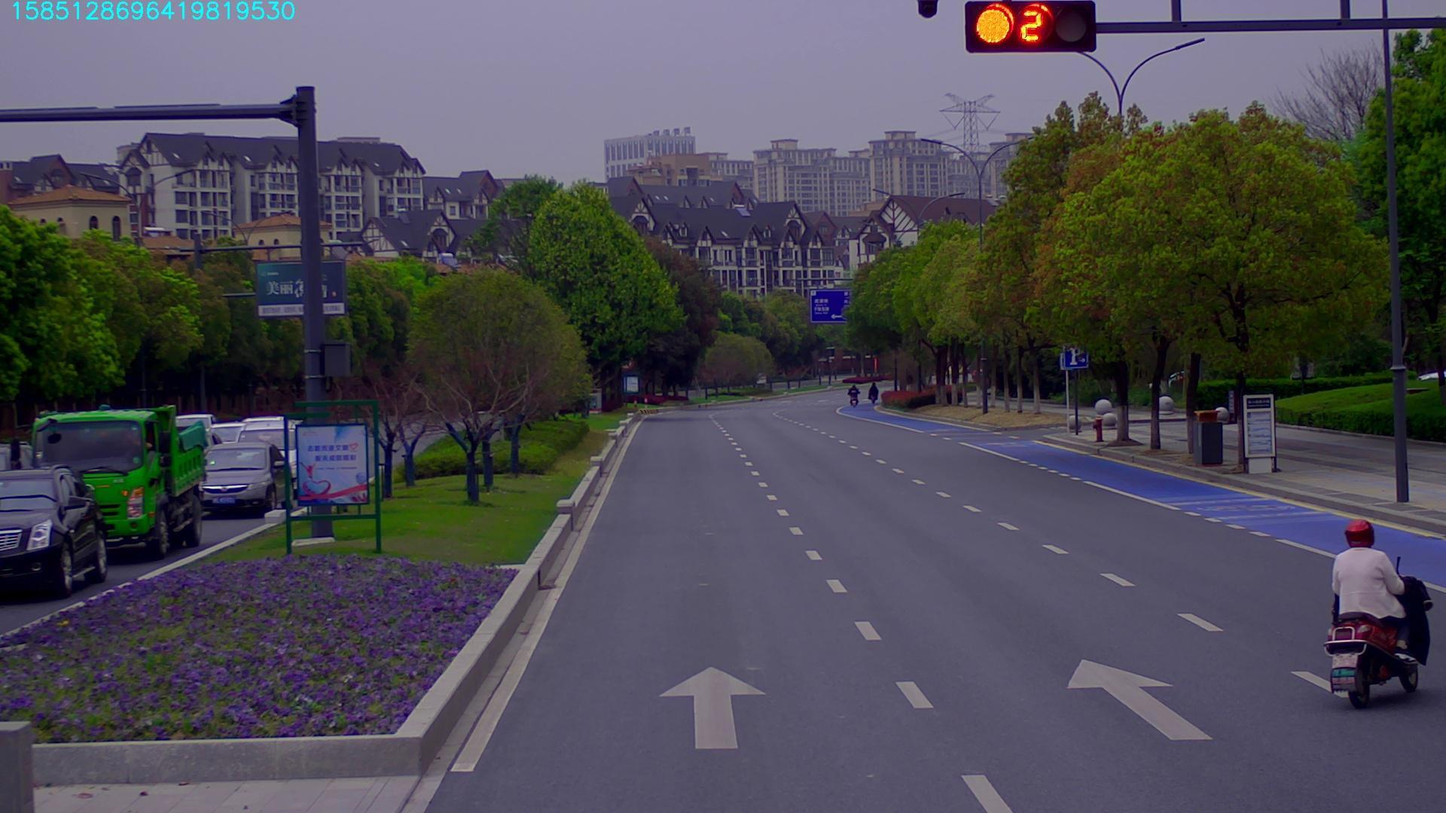red: (968, 7, 1094, 56)
